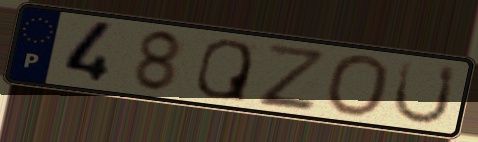4: (59, 18, 119, 89)
8: (133, 28, 187, 94)
O: (322, 53, 393, 120)
Q: (192, 37, 255, 104)
U: (389, 57, 460, 127)
Z: (255, 40, 325, 111)
